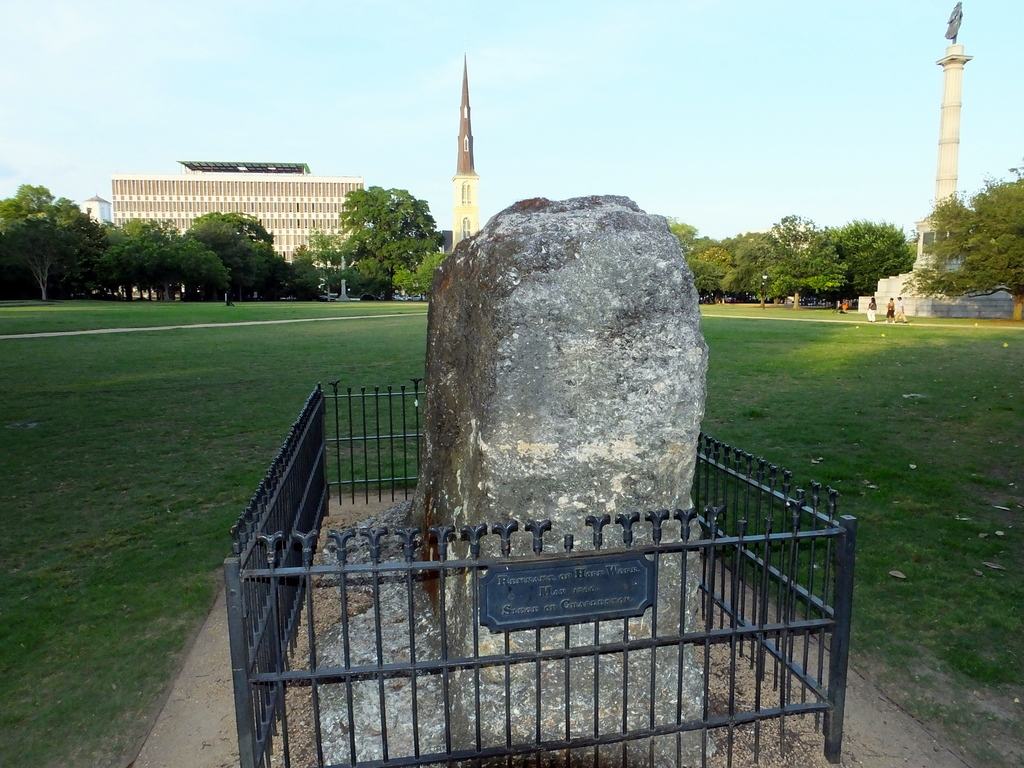Tree: (0, 183, 295, 311), (664, 211, 916, 314), (896, 162, 1023, 322), (296, 187, 451, 301), (391, 247, 456, 310)
